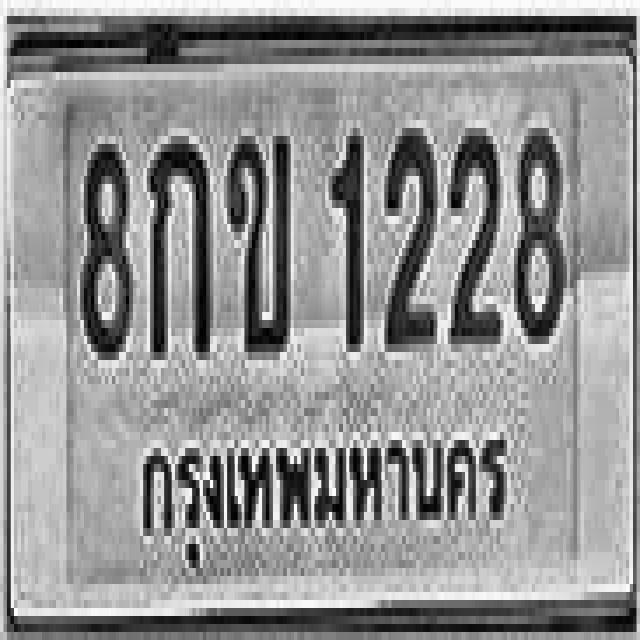license-plate: (5, 41, 634, 616)
